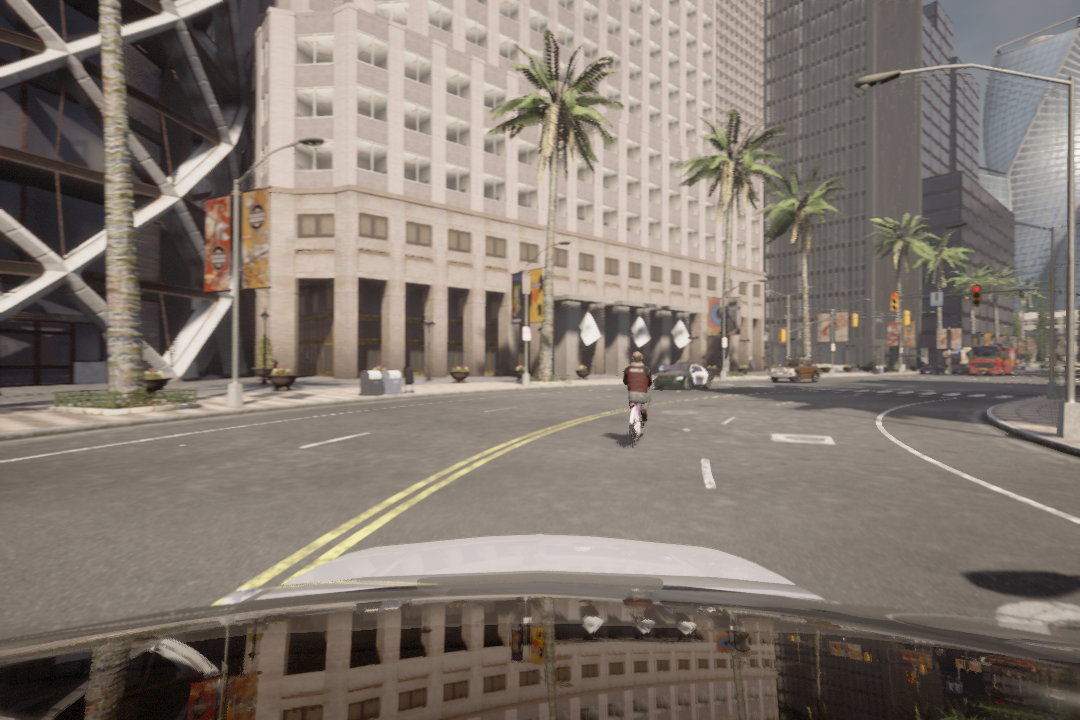TrafficLight: (971, 285, 981, 311), (890, 291, 901, 314)
